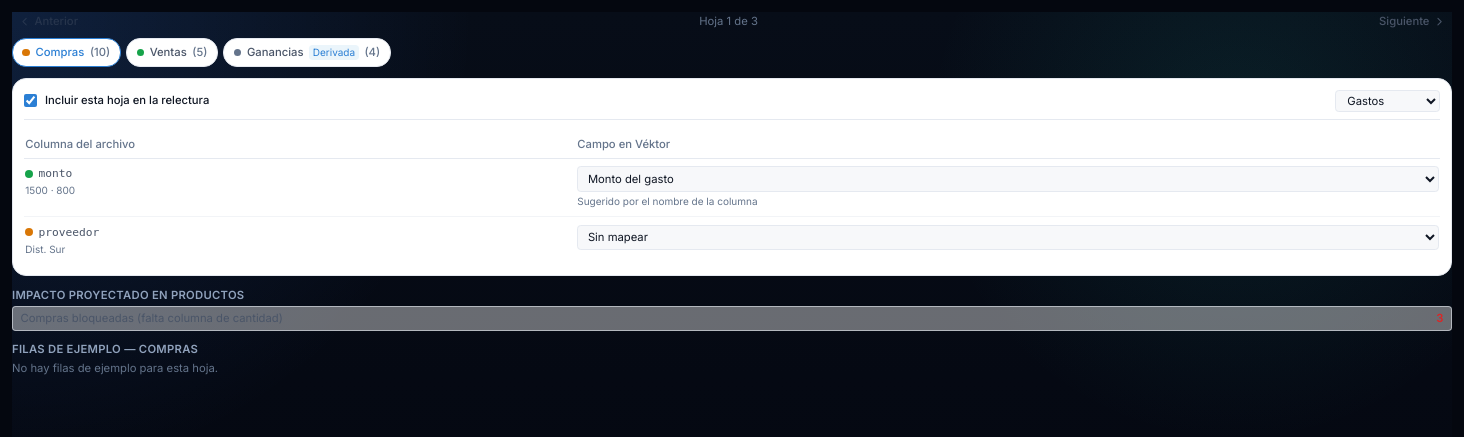
Test: FileInterpretationReview › muestra una hoja derivada como excluida por defecto con su explicación
expect the text "Derivada" is shown: met, box [309, 45, 359, 60]
Click the tab "Ganancias Derivada (4)": coordinates (307, 52) [223, 38, 390, 67]
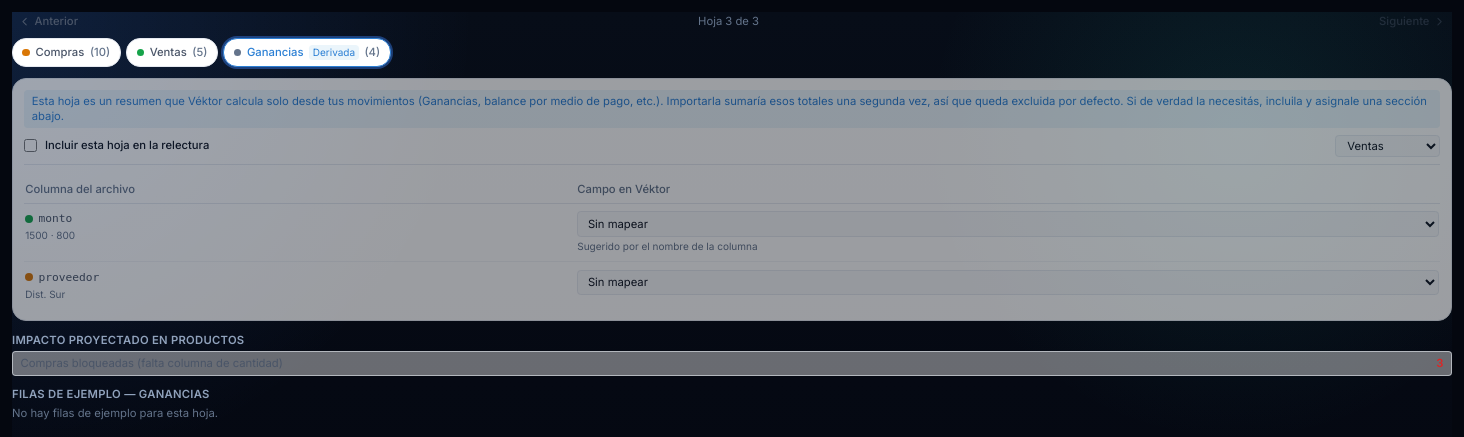
expect the text "Véktor calcula solo desde tus movimientos" is shown: met, box [32, 94, 1427, 123]
expect the checkbox labelled "Incluir esta hoja en la relectura" is not checked: met, box [24, 139, 37, 152]
